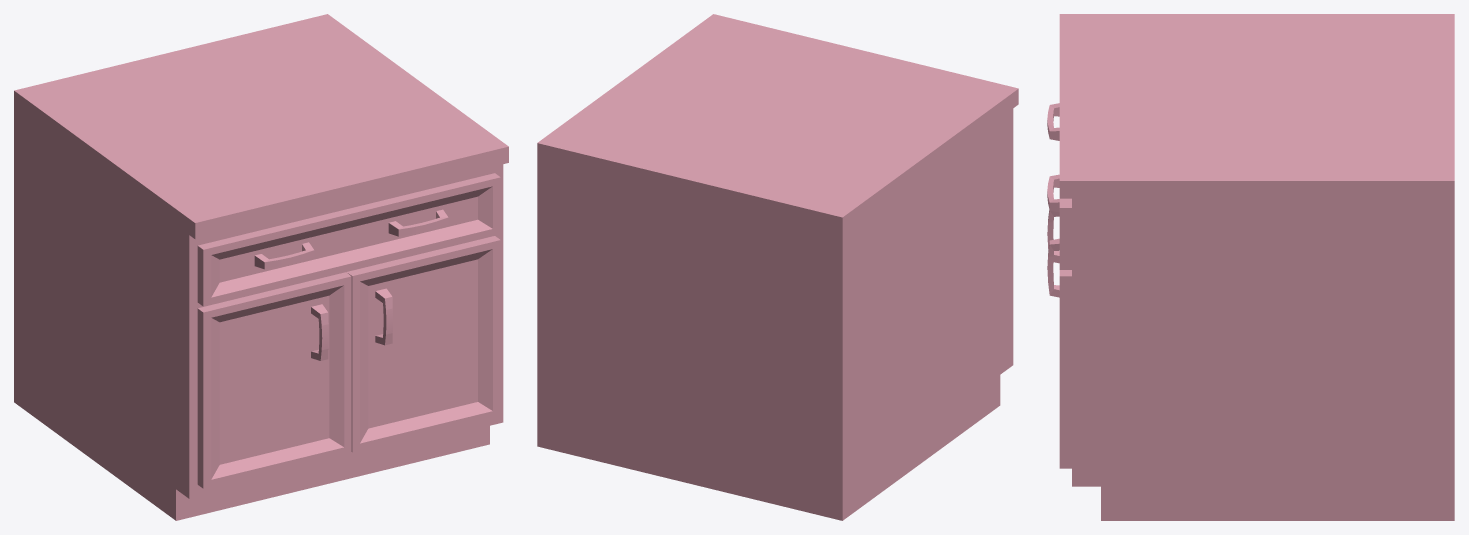
File: KitchenCounter.fbx
3 renders of one model, left to right at view 1: azimuth 30°, elevation 25°; view 2: azimuth 150°, elevation 25°; view 3: azimuth 270°, elevation 25°, orthographic. The views are drawn at different scales.
Visible parts, largest first — view 1: KitchenCounter; view 2: KitchenCounter; view 3: KitchenCounter.
Part boxes in pixels (bbox=[...]): KitchenCounter: bbox=[14, 14, 508, 520]; KitchenCounter: bbox=[537, 14, 1018, 520]; KitchenCounter: bbox=[1047, 14, 1454, 520].
Size of the model in its own units: 100 by 94.96 by 103.
